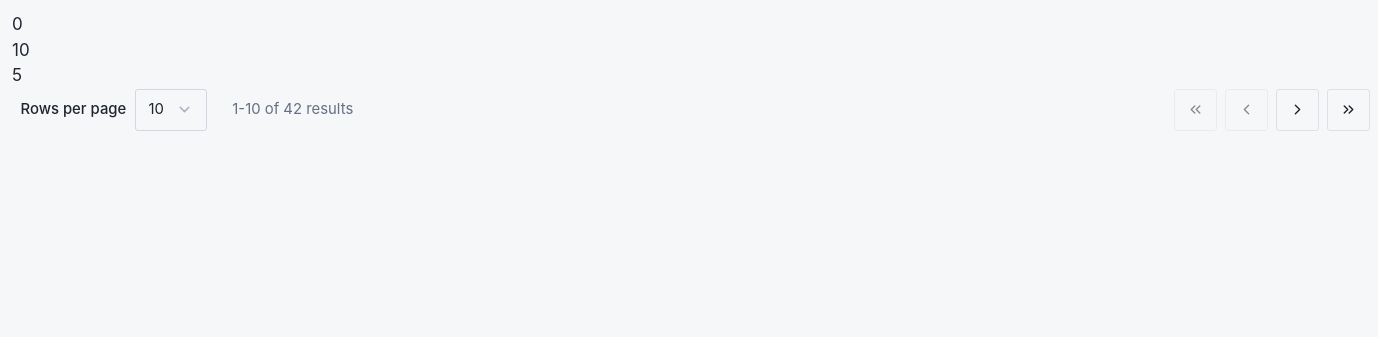
usePaginationTable › changes the page size via the rows-per-page select
The image size is (1378, 337).
What coordinates should you click on to do the following:
click the dropdown
I would click on:
 (171, 110)
Its box is x1=135 y1=88 x2=207 y2=131.
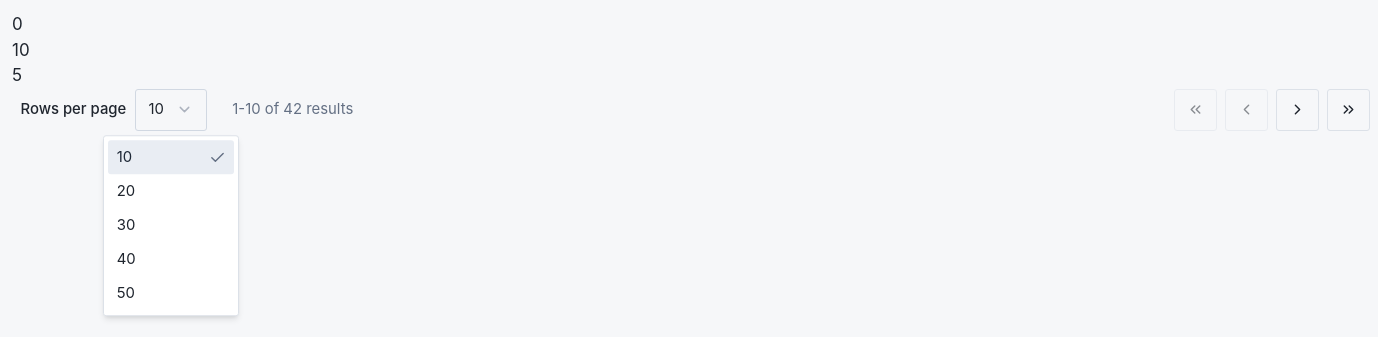
What coordinates should you click on to do the following:
click the option "20"
I would click on:
 (126, 191)
Its box is x1=117 y1=182 x2=135 y2=200.
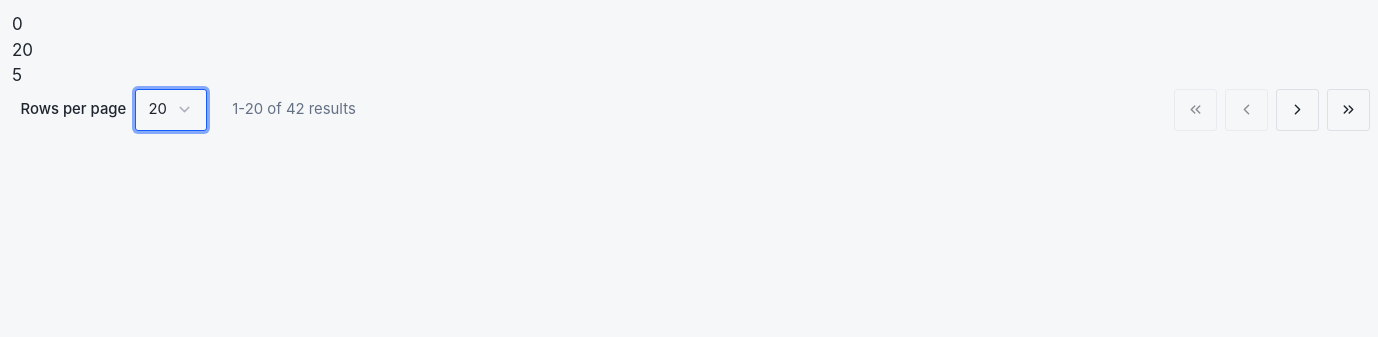
Result: the text with test id "page-size" reads "20" at x1=12 y1=40 x2=33 y2=60
